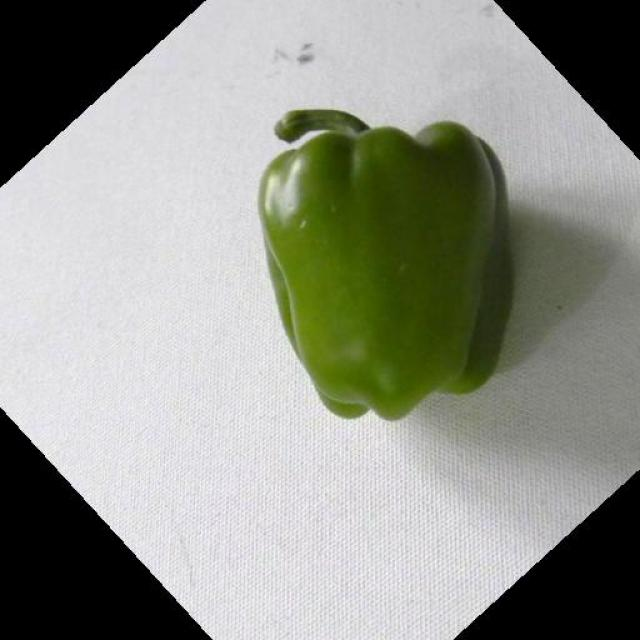Fresh_Capsicum: (257, 98, 573, 445)
